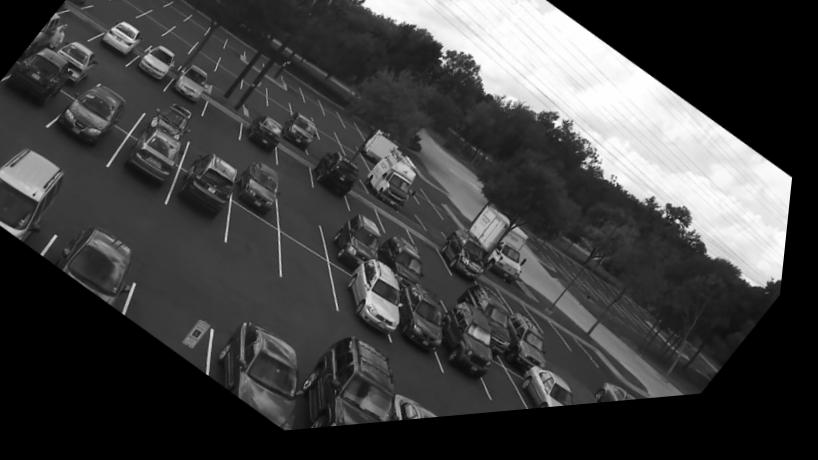empty: (138, 267, 224, 378), (284, 241, 338, 316), (289, 198, 343, 261), (236, 208, 284, 272), (108, 74, 156, 115), (497, 371, 536, 421), (203, 102, 247, 146), (55, 6, 105, 43), (418, 242, 455, 281), (558, 334, 598, 367), (383, 218, 420, 252), (284, 154, 314, 191), (536, 321, 569, 352), (160, 33, 196, 61), (89, 1, 124, 29), (199, 139, 233, 167), (416, 193, 446, 224), (508, 300, 540, 329), (355, 201, 386, 230), (137, 16, 171, 42), (216, 66, 244, 95), (189, 50, 219, 77), (245, 85, 272, 114), (437, 287, 466, 313), (148, 10, 179, 33), (195, 44, 226, 67), (347, 151, 373, 177), (173, 27, 203, 49), (322, 137, 348, 162), (244, 73, 269, 99), (204, 29, 230, 54), (111, 0, 145, 19), (222, 57, 246, 82), (131, 20, 157, 43), (185, 17, 213, 37), (270, 89, 293, 112), (270, 101, 293, 123), (318, 121, 341, 143), (341, 135, 364, 157), (287, 78, 305, 105), (295, 102, 315, 126), (168, 4, 192, 24), (225, 41, 246, 63), (308, 96, 326, 120), (346, 123, 366, 144), (328, 110, 345, 131), (130, 0, 155, 14), (315, 150, 338, 161), (253, 110, 271, 122), (150, 0, 171, 9)
occupied: (236, 319, 306, 437), (0, 145, 82, 244), (318, 343, 400, 435), (62, 222, 142, 308), (58, 79, 131, 149), (5, 44, 78, 111), (348, 266, 411, 343), (184, 155, 242, 228), (128, 125, 188, 192), (448, 311, 501, 384), (405, 292, 452, 364), (445, 238, 502, 295), (371, 156, 421, 219), (469, 294, 519, 349), (382, 244, 432, 296), (337, 221, 387, 272), (315, 158, 364, 209), (530, 377, 584, 419), (515, 323, 554, 381), (241, 168, 282, 222), (100, 23, 143, 62), (57, 44, 99, 82), (249, 120, 287, 161), (285, 117, 322, 156), (174, 68, 210, 107), (149, 109, 194, 139), (139, 48, 176, 84), (604, 395, 647, 415)
